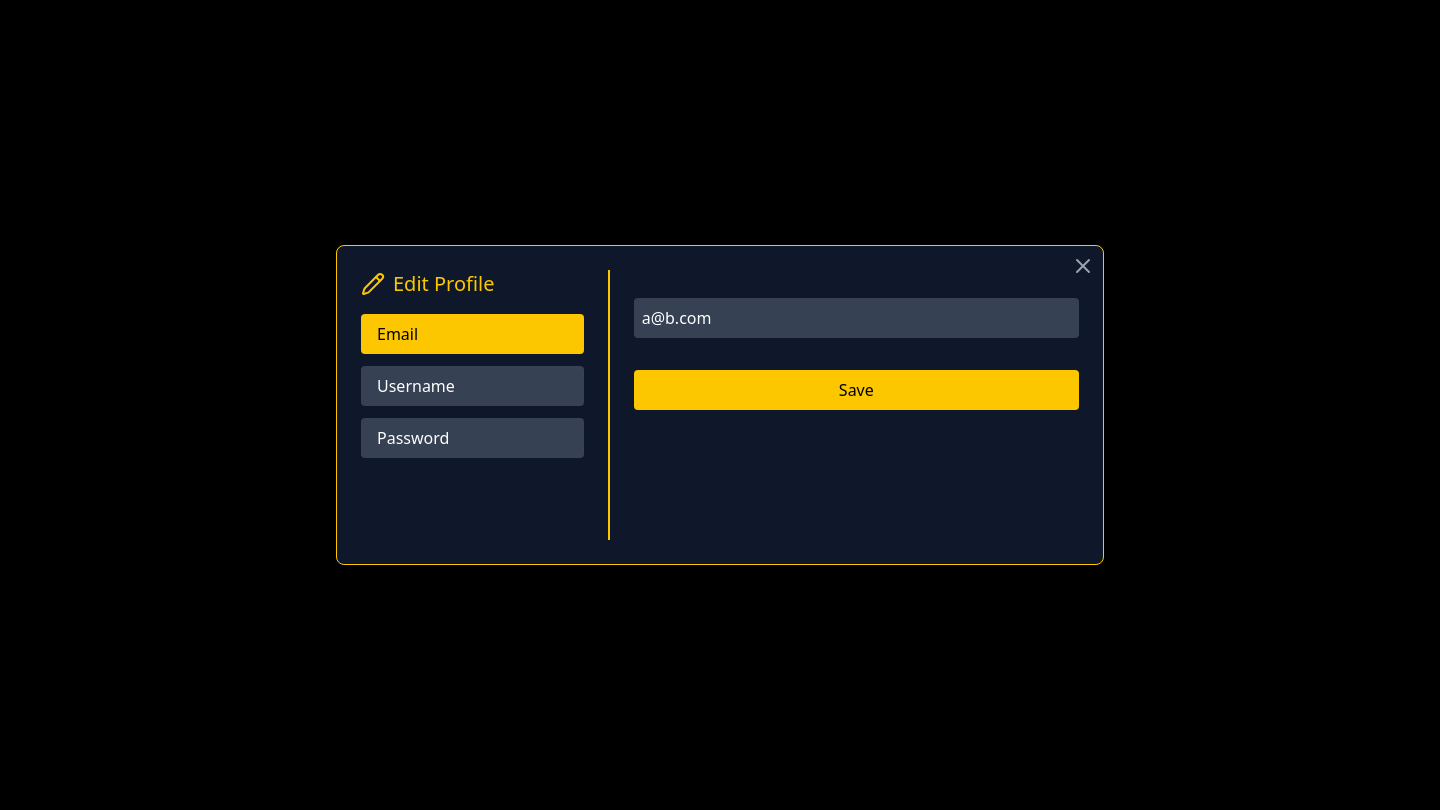
EditProfileModal › renders email section by default and prefills fields
The image size is (1440, 810).
Expected: the field with placeholder "New Email" holds "a@b.com", [634, 298, 1079, 338]
Click the button "Username": (472, 386) [361, 366, 584, 406]
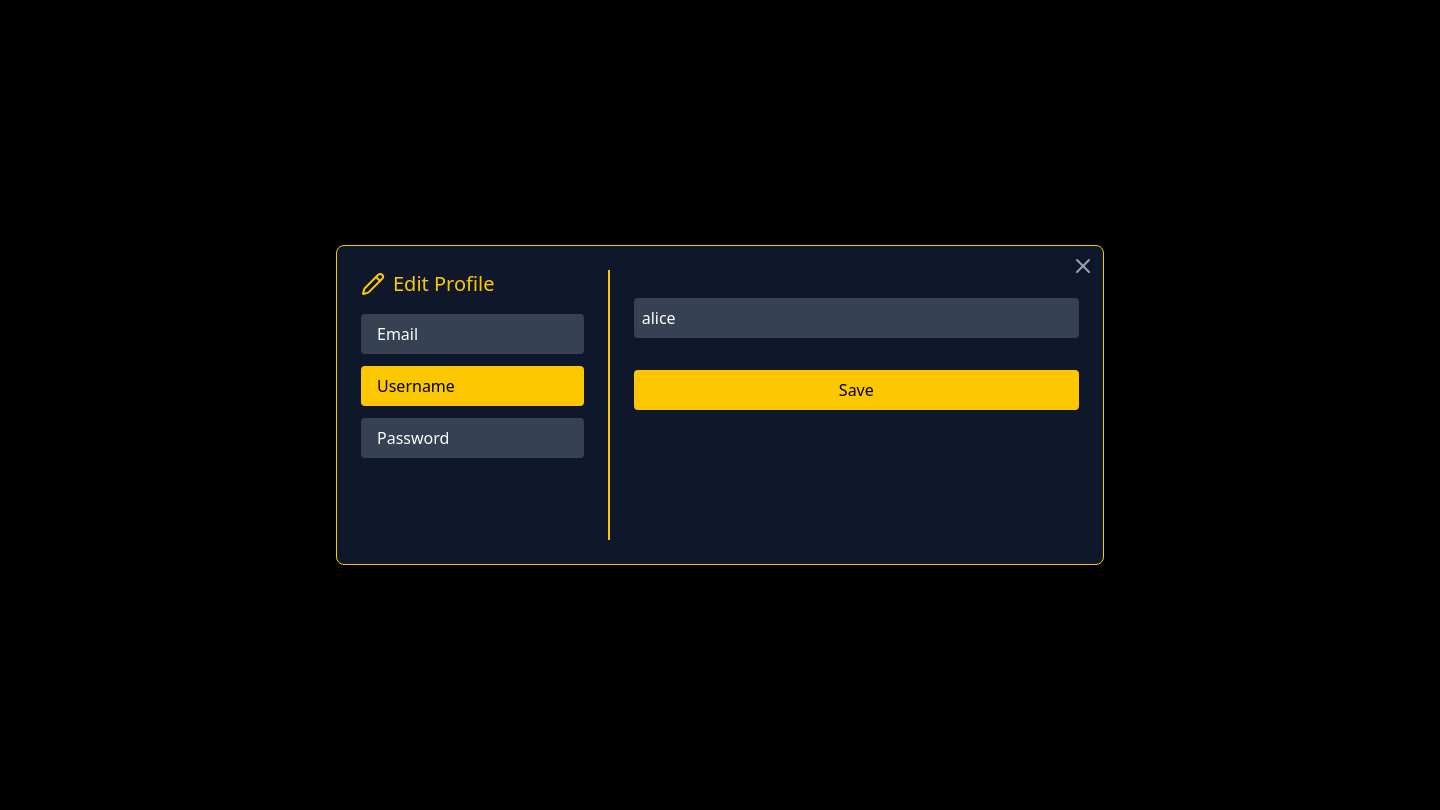
Result: the field with placeholder "New Username" holds "alice" at [634, 298, 1079, 338]
